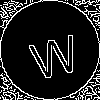W: (25, 25, 83, 81)
